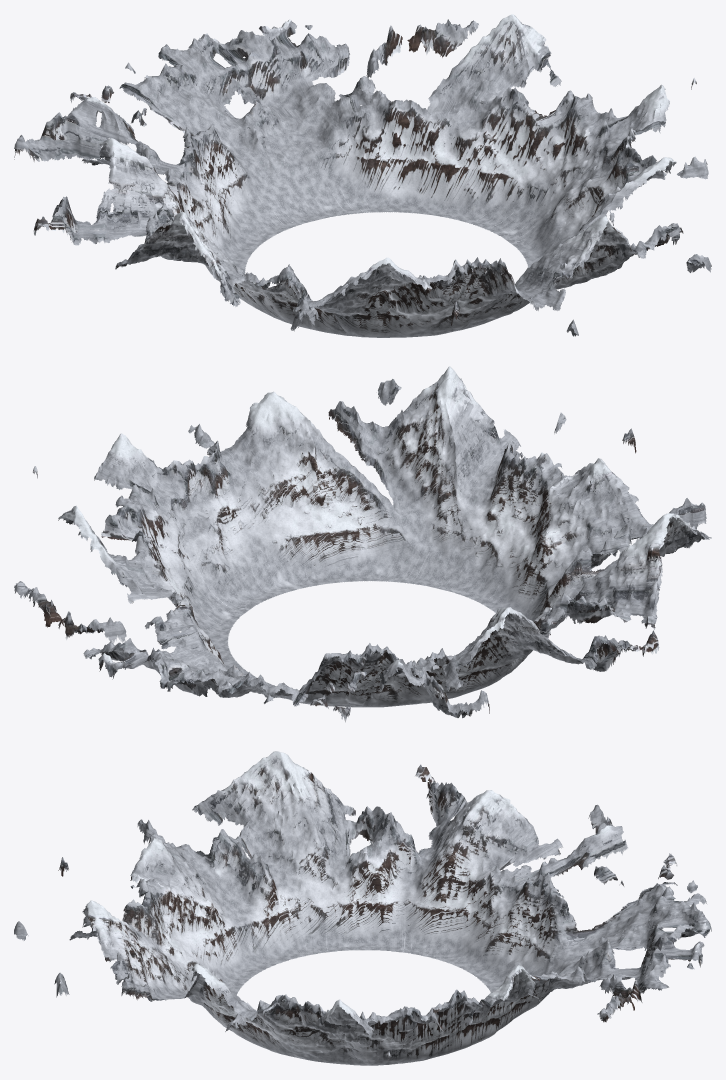
Rendered from backdrop_mountain_ring_v5_winter_mid.glb.
The picture shows the model from 3 angles, top to bottom: view 1: azimuth 30°, elevation 25°; view 2: azimuth 150°, elevation 25°; view 3: azimuth 270°, elevation 25°; orthographic projection. The views are drawn at different scales.
Parts seen in each view (by area): view 1: backdrop_v5_mid; view 2: backdrop_v5_mid; view 3: backdrop_v5_mid.
Part boxes in pixels (x1,y1,x2,y2): backdrop_v5_mid: [14, 14, 711, 337]; backdrop_v5_mid: [14, 366, 711, 722]; backdrop_v5_mid: [14, 751, 711, 1065].
Size of the model in its own units: 1464 by 336 by 1502.
Materials: 8 (8 with a texture image).
